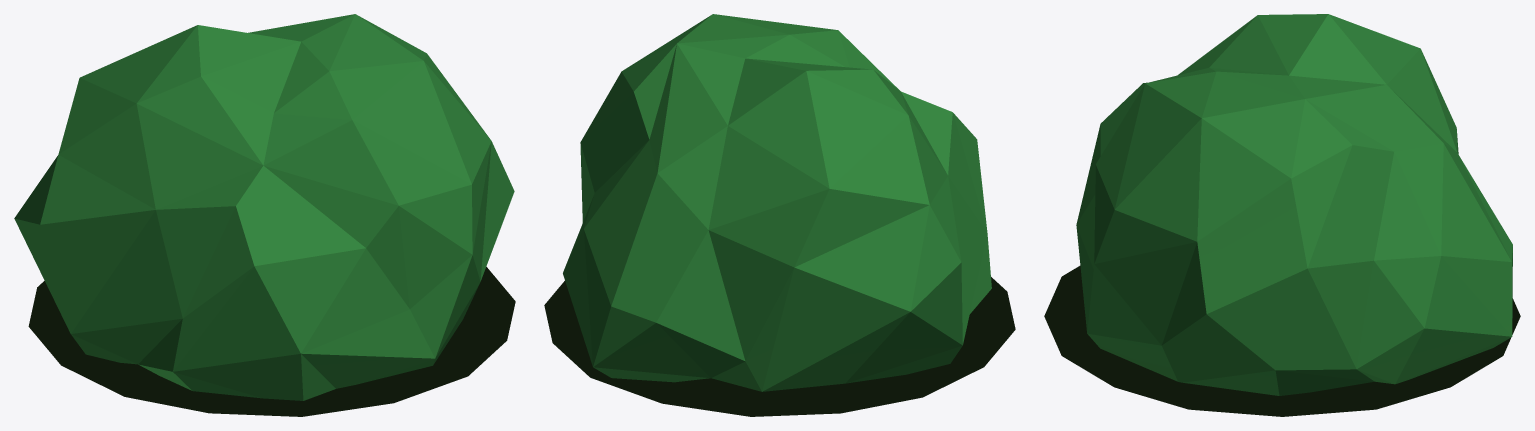
File: Krzak4.fbx
3 renders of one model, left to right at view 1: azimuth 30°, elevation 25°; view 2: azimuth 150°, elevation 25°; view 3: azimuth 270°, elevation 25°, orthographic. The views are drawn at different scales.
Visible parts, largest first — view 1: Krzak4; view 2: Krzak4; view 3: Krzak4.
Boxes of the visible parts, x1,y1,x2,y2 form: Krzak4: (14, 14, 515, 416); Krzak4: (544, 14, 1015, 416); Krzak4: (1044, 14, 1520, 416).
Bounding box in the file's own units: 22096 × 14931 × 22096.
